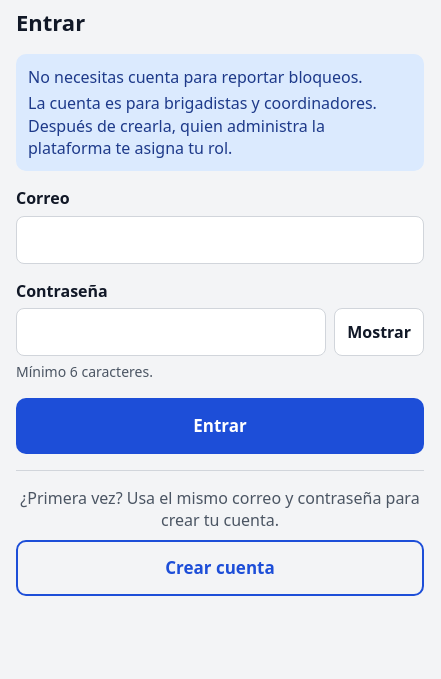
Test: IniciarSesion › entrar con credenciales incorrectas muestra el error en español
Step 1. Type "a@b.mx" into the field labelled "Correo" → {"x": 220, "y": 240}, box top-left (16, 216), bottom-right (424, 264)
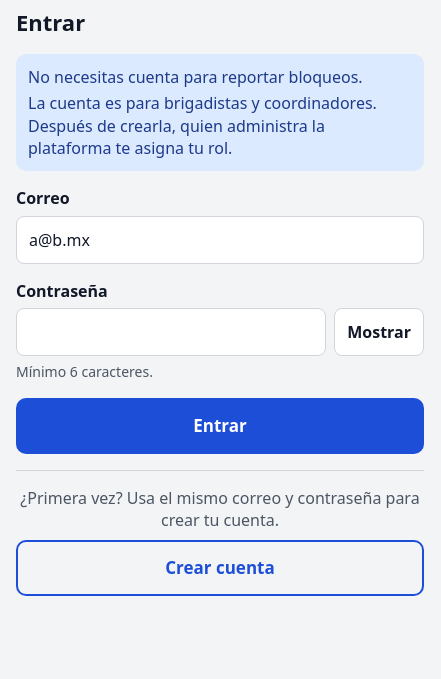
Step 2. Type "malamala" into the password field labelled "Contraseña" → {"x": 171, "y": 332}, box top-left (16, 308), bottom-right (326, 356)
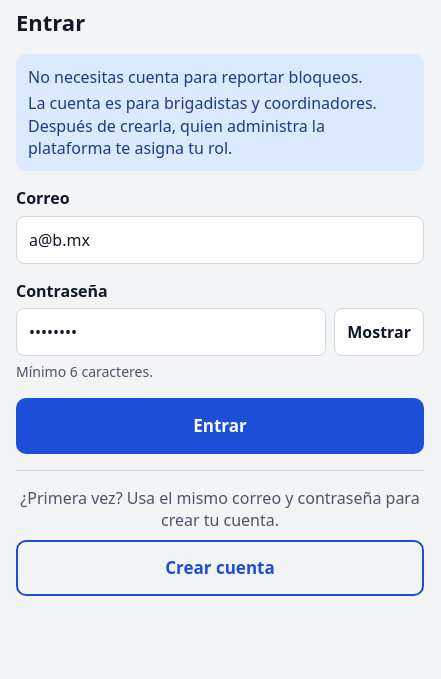
Step 3. Click the button "Entrar" → {"x": 220, "y": 426}, box top-left (16, 398), bottom-right (424, 454)
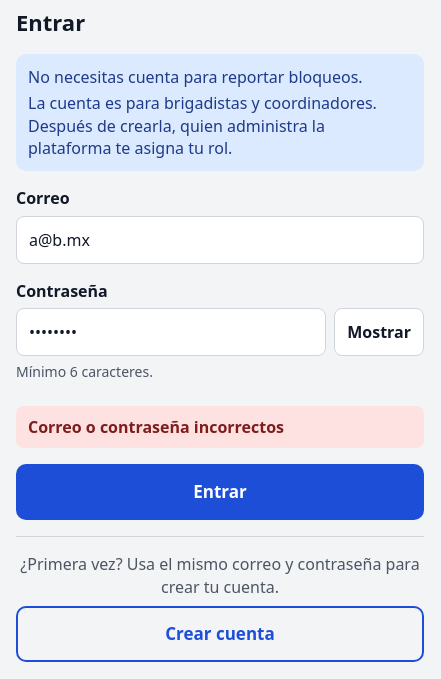
Result: the message reads "Correo o contraseña incorrectos" at top-left (28, 416), bottom-right (284, 438)
